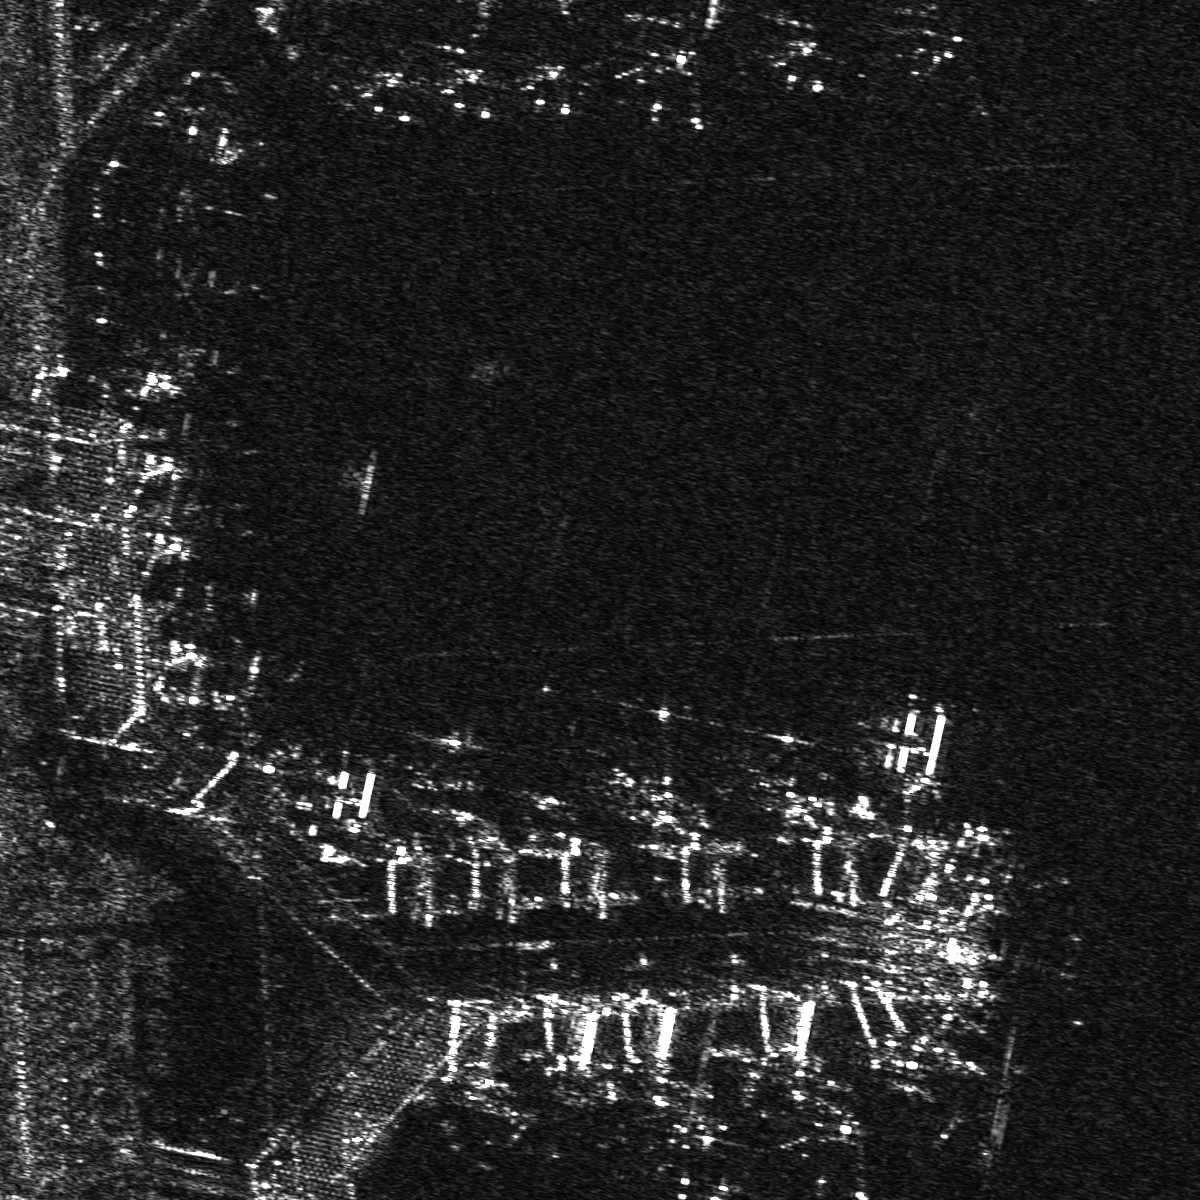A220: (385, 716, 496, 805)
A320/321: (584, 691, 696, 805), (727, 716, 831, 805), (646, 1116, 752, 1199), (920, 1092, 1009, 1175)
Boeing737: (775, 1107, 890, 1199), (770, 16, 846, 95), (896, 9, 971, 73), (430, 63, 505, 124), (520, 59, 592, 116), (353, 69, 424, 123)
other: (613, 36, 747, 131)
